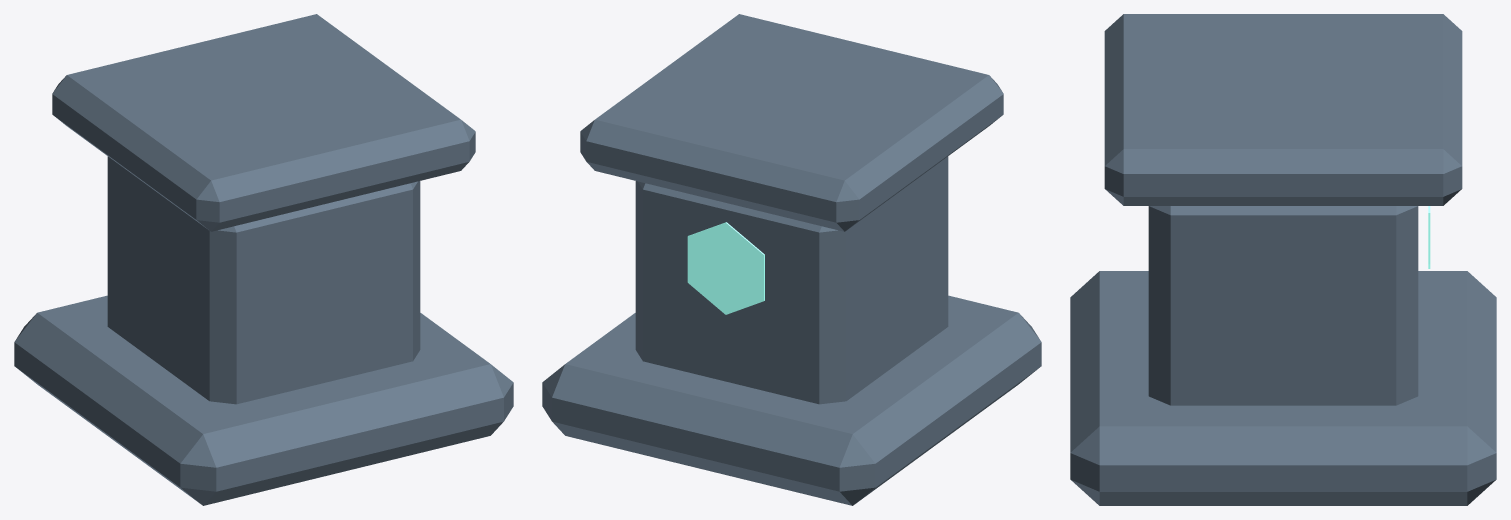
The model's file is totem_dominio.glb.
The picture shows the model from 3 angles, left to right: view 1: azimuth 30°, elevation 25°; view 2: azimuth 150°, elevation 25°; view 3: azimuth 270°, elevation 25°; orthographic projection. The views are drawn at different scales.
Visible parts, largest first — view 1: pedreira_totem_dominio; view 2: pedreira_totem_dominio; view 3: pedreira_totem_dominio.
Part boxes in pixels (x1,y1,x2,y2): pedreira_totem_dominio: (14, 14, 513, 505); pedreira_totem_dominio: (542, 14, 1041, 505); pedreira_totem_dominio: (1070, 14, 1496, 505).
Size of the model in its own units: 0.68 by 0.61 by 0.68.
